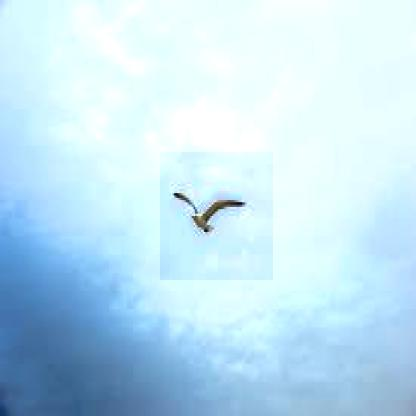bird: (160, 152, 273, 280)
